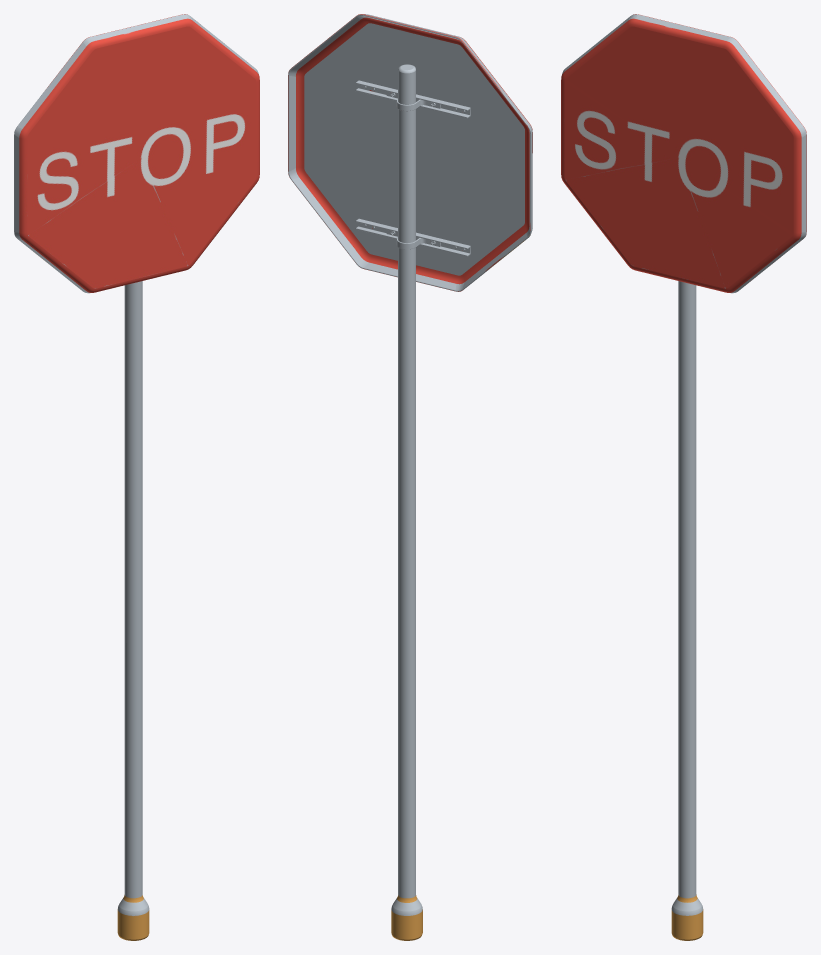
Rendered from StopSign.fbx.
3 renders of one model, left to right at view 1: azimuth 30°, elevation 25°; view 2: azimuth 150°, elevation 25°; view 3: azimuth 330°, elevation 25°, orthographic.
Parts seen in each view (by area): view 1: stop1; view 2: stop1; view 3: stop1.
Part boxes in pixels (x1,y1,x2,y2): stop1: [14, 14, 259, 940]; stop1: [288, 14, 532, 940]; stop1: [561, 14, 806, 940].
Bounding box in the file's own units: 6.88 × 24.5 × 0.7859.
Materials: 1 (1 with a texture image).
